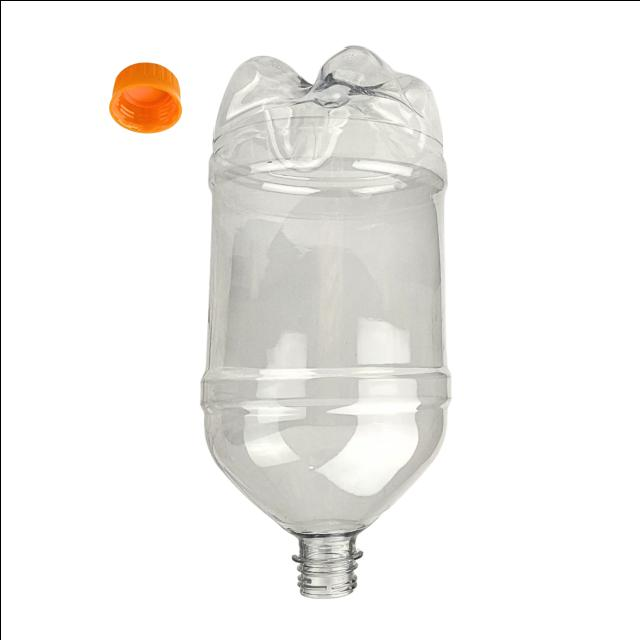bottom: (213, 47, 442, 156)
